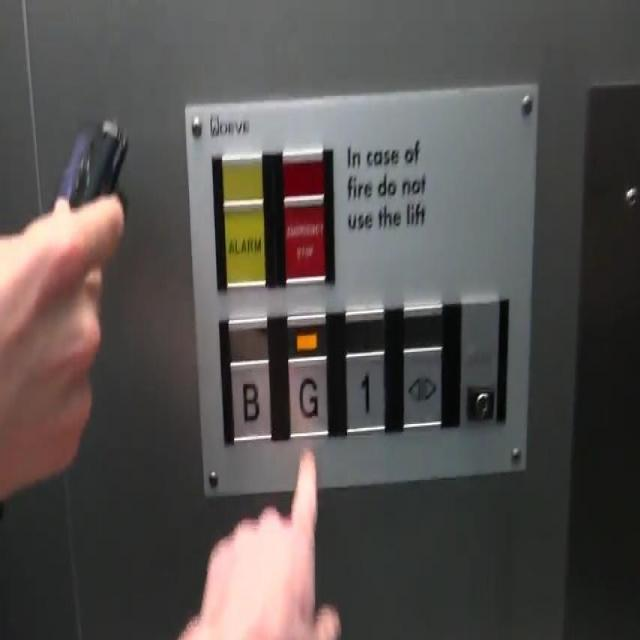1: (341, 343, 387, 436)
B: (227, 352, 274, 445)
G: (285, 349, 331, 443)
open: (399, 341, 445, 435)
text: (280, 188, 329, 291), (220, 193, 268, 290)
